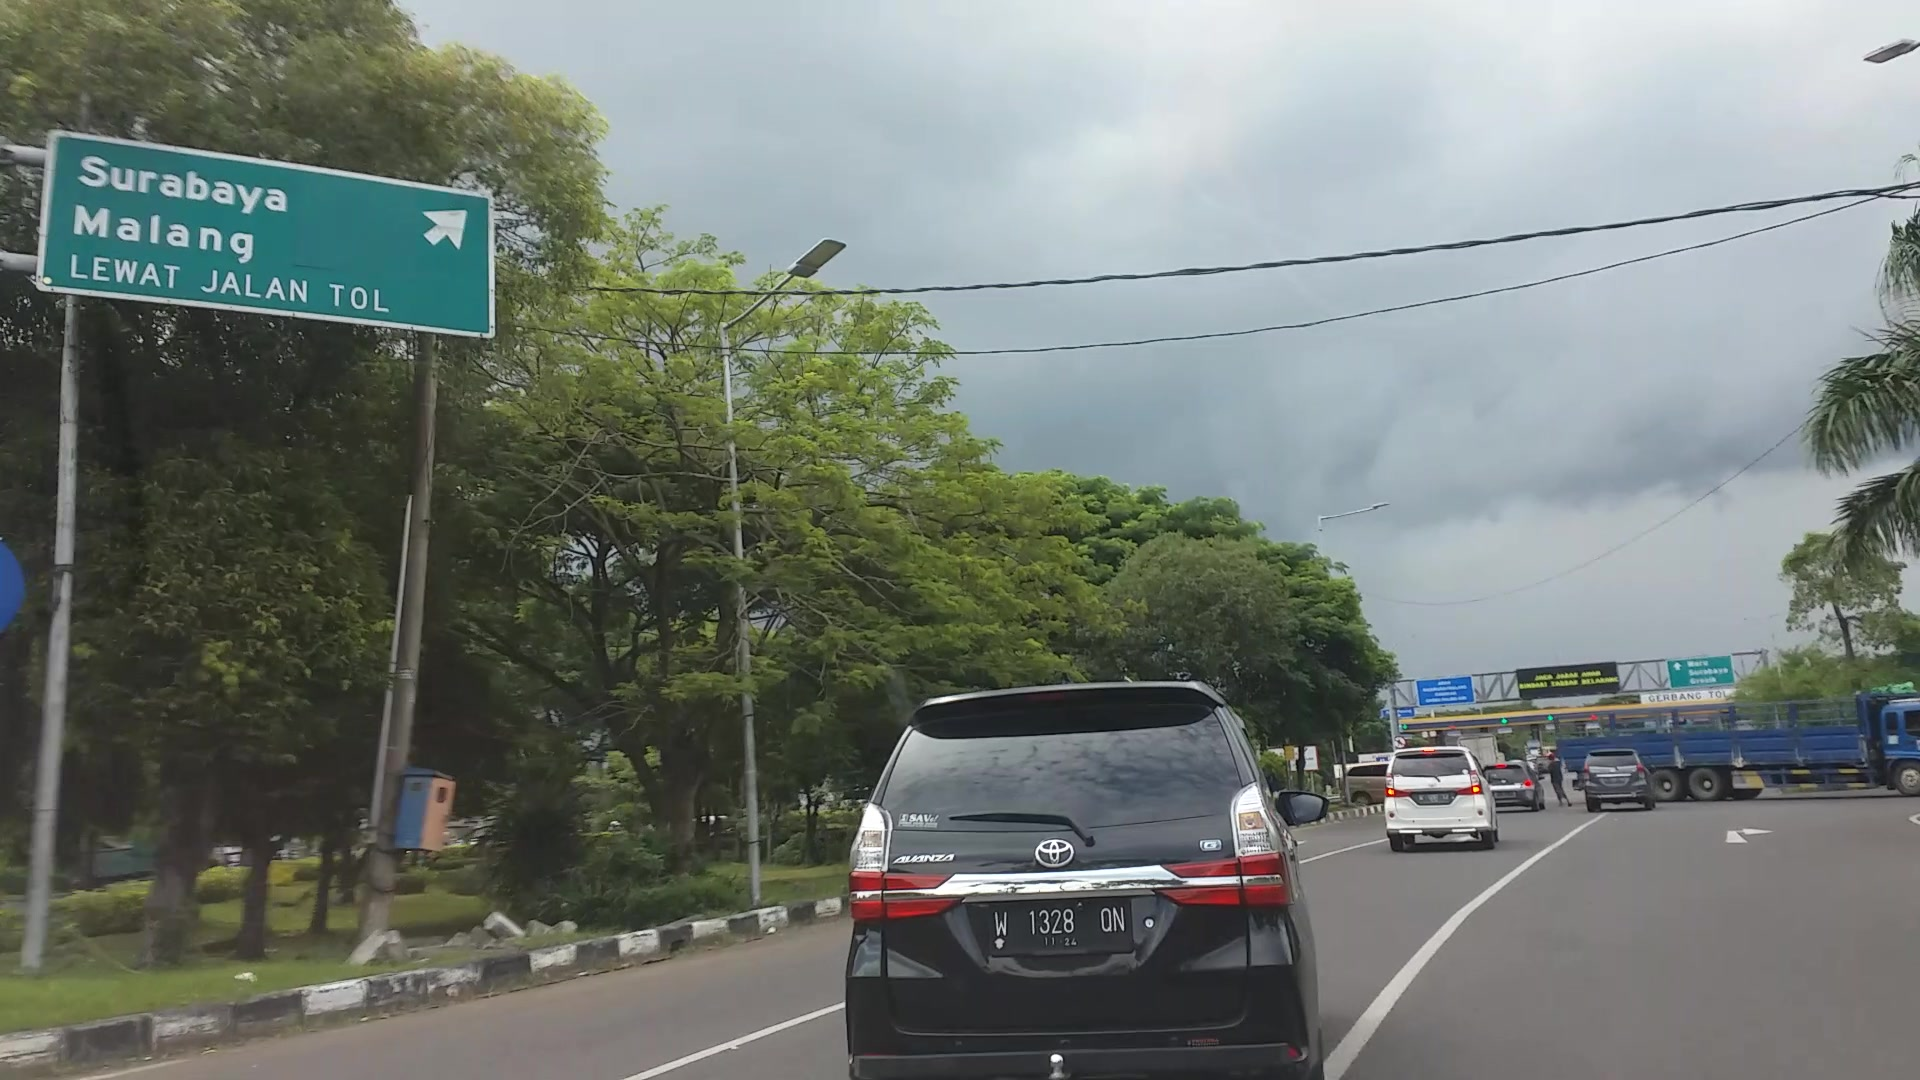plate_positive: (988, 901, 1134, 953)
